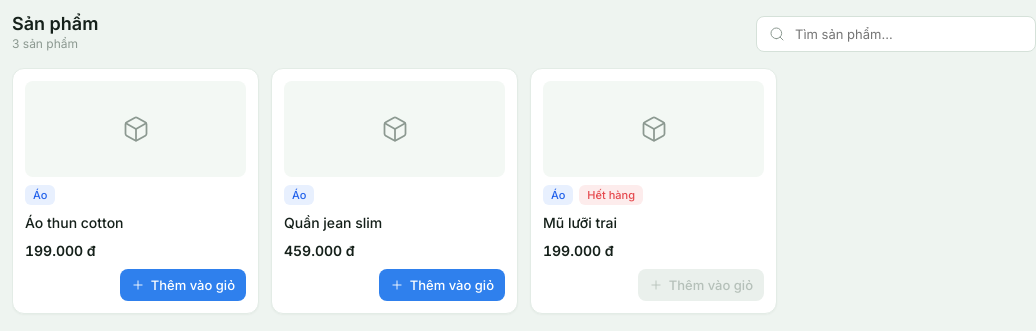
Test case: <ProductList /> — bất đồng bộ với API được mock › hiện thông báo khi không có sản phẩm khớp từ khoá
Expected: the heading "Áo thun cotton" is shown, [25, 214, 124, 231]
In the search field labelled "Tìm sản phẩm": point(908, 34) [793, 23, 1023, 45], type "xyz"
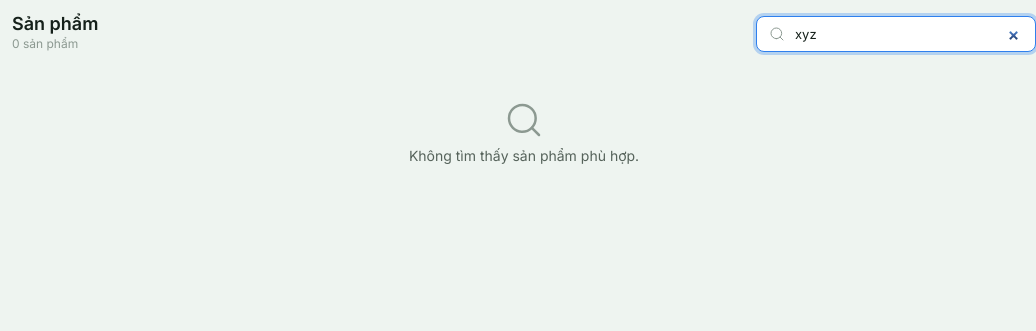
Expected: the text "Không tìm thấy sản phẩm phù hợp." is shown, [409, 146, 639, 166]
